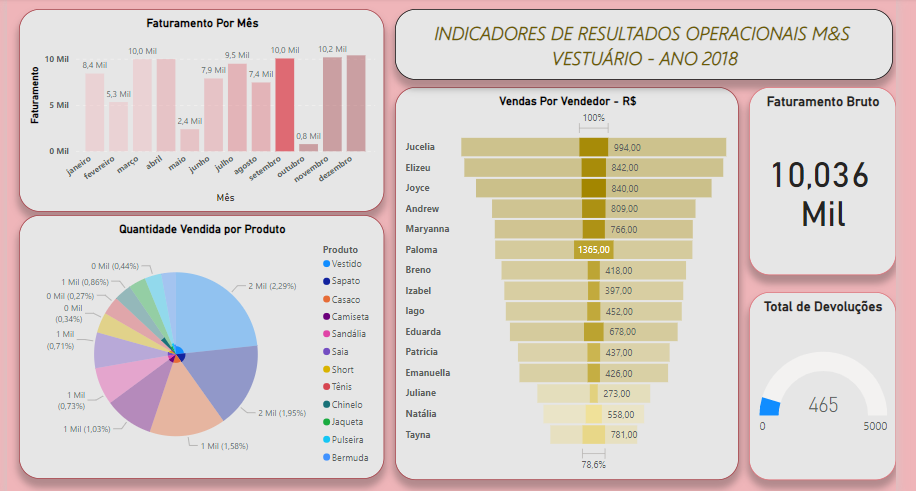

The page's visual inventory and layout, read from the dashboard file:
{"tool":"powerbi","page":{"name":"Página 1","canvas":[1280,720],"ordinal":0},"visuals":[{"type":"clusteredColumnChart","title":"Faturamento Por Mês","fields":{"Category":["DadosProdutos.Data da Venda.Variation.Hierarquia de datas.Mês"],"Y":["Sum(DadosProdutos.Quantidade Vendida)"]},"box":[17,15.7,526.3,291.9],"z":0},{"type":"pieChart","title":"Quantidade Vendida por Produto","fields":{"Y":["Sum(DadosProdutos.Quantidade Vendida)"],"Category":["DadosProdutos.Produto"]},"box":[17,312.9,526.3,379.6],"z":1000},{"type":"funnel","title":"Vendas Por Vendedor - R$","fields":{"Category":["DadosProdutos.Nome"],"Y":["Sum(DadosProdutos.Quantidade Vendida)"]},"box":[558.8,128,495.5,565.7],"z":2000},{"type":"textbox","box":[558.7,15.8,717.1,102.2],"z":3000},{"type":"gauge","title":"Total de Devoluções","fields":{"Y":["Sum(DadosDevolução.Quantidade Devolvida)"]},"box":[1068.5,423.4,211.7,270.7],"z":4000},{"type":"card","title":"Faturamento Bruto","fields":{"Values":["Sum(DadosProdutos.Quantidade Vendida)"]},"box":[1068.5,128.2,211.7,270.7],"z":5000}]}

Visuals, with their boxes in screenshot pixels (x1, y1, x2, y2):
"Faturamento Por Mês" clusteredColumnChart: l=14, t=4, r=382, b=207
"Quantidade Vendida por Produto" pieChart: l=14, t=211, r=382, b=476
"Vendas Por Vendedor - R$" funnel: l=392, t=82, r=738, b=477
textbox: l=392, t=4, r=893, b=75
"Total de Devoluções" gauge: l=748, t=288, r=896, b=477
"Faturamento Bruto" card: l=748, t=82, r=896, b=271
